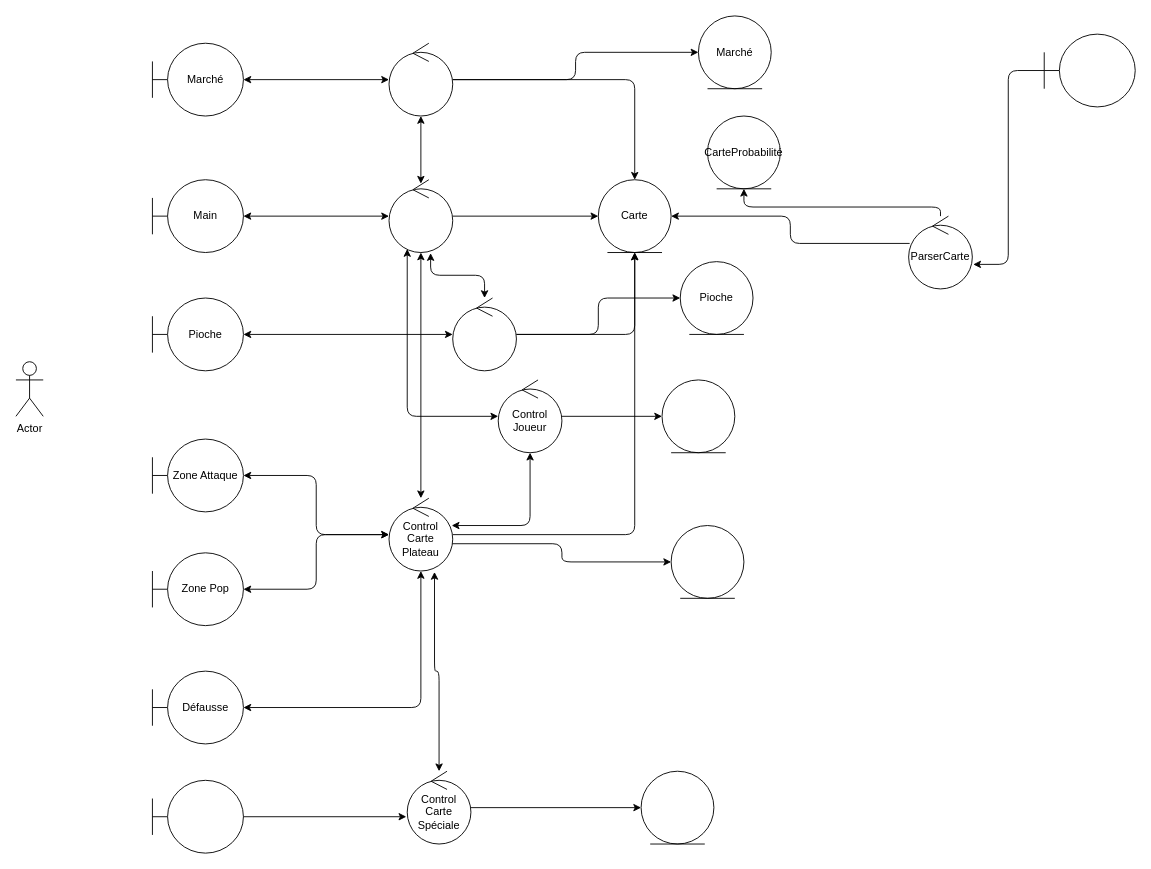
This 1151x869 diagram has some shape labels left out. The shapes that lost their labels are listed below. From the top down, each one's box as (x1, y1, x2, y2) in pixels, then its label:
(388, 42, 453, 116): Control Marché
(1043, 33, 1135, 107): txt
(388, 179, 453, 253): Control Main
(452, 297, 516, 371): Control Pioche
(661, 379, 735, 453): Joueur
(670, 525, 744, 598): CartePassive
(152, 779, 243, 853): Zone Carte Spéciale
(640, 770, 714, 844): Carte sp éciale
